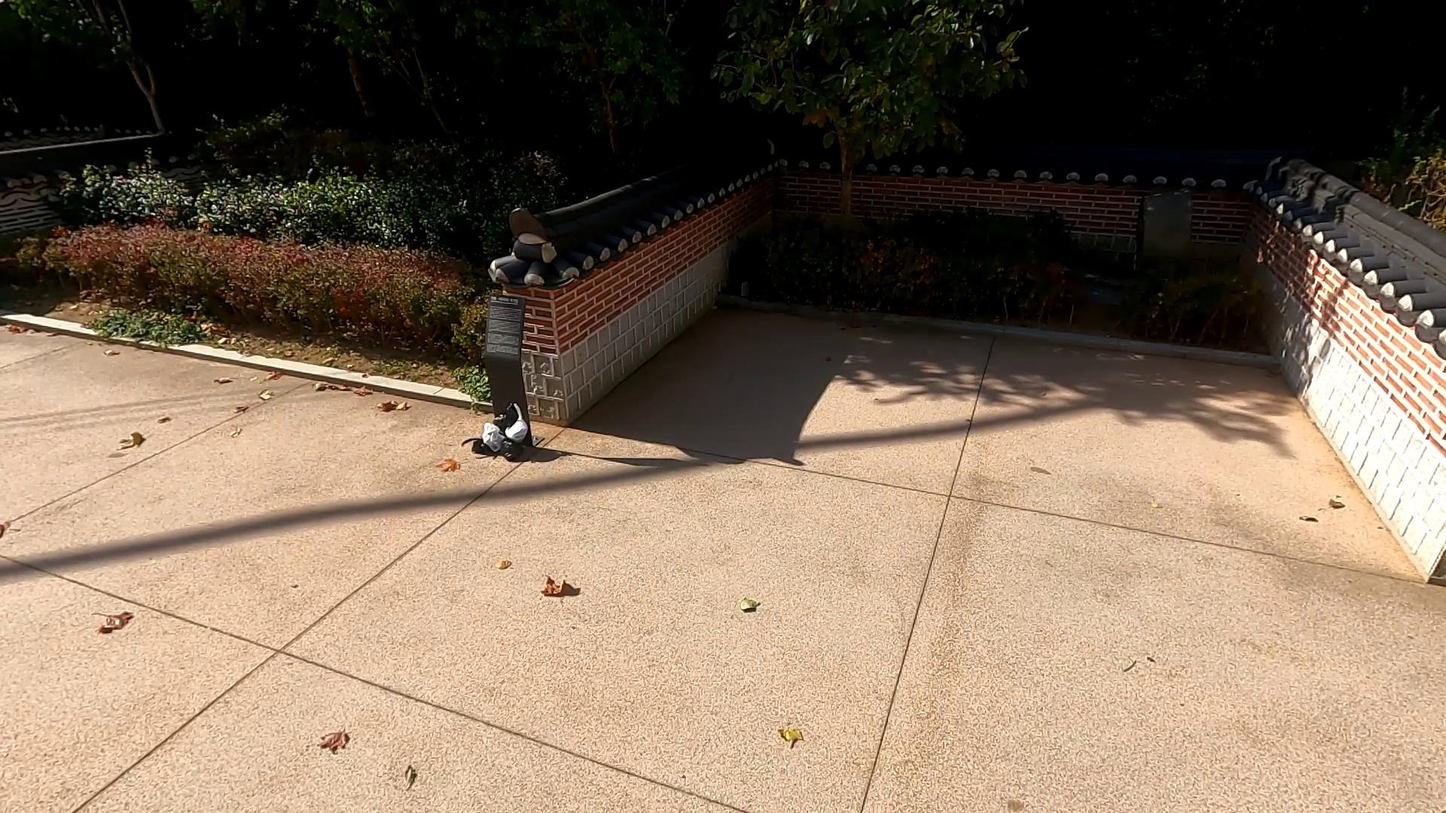trash: (494, 436, 528, 461), (504, 404, 528, 439), (458, 438, 500, 458), (490, 404, 518, 431), (483, 422, 505, 451)
